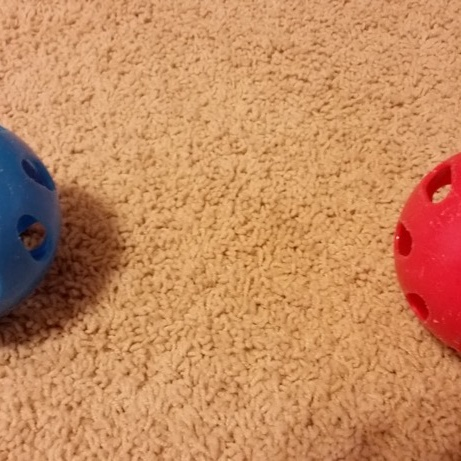blueball: (2, 122, 65, 318)
redball: (392, 144, 461, 356)
